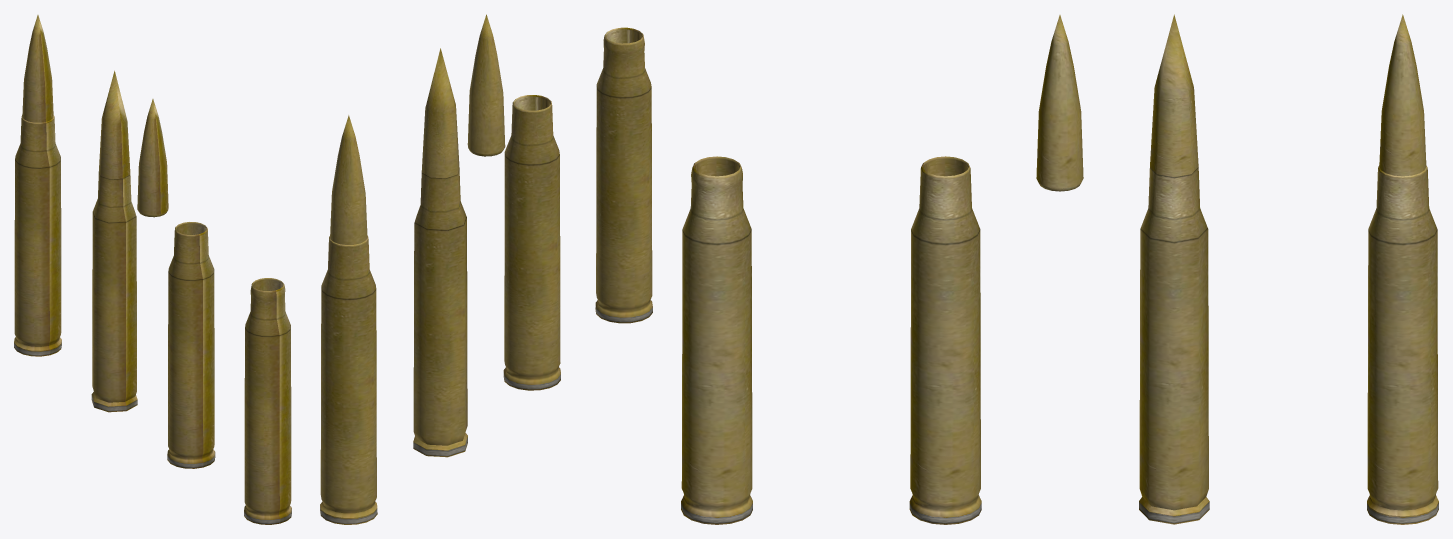
Rendered from Casing.glb.
3 views of the same model, side by side, from view 1: azimuth 30°, elevation 25°; view 2: azimuth 150°, elevation 25°; view 3: azimuth 270°, elevation 25° (orthographic). The views are drawn at different scales.
Visible parts, largest first — view 1: Object_2; view 2: Object_2; view 3: Object_2.
Boxes of the visible parts, box(x1,y1,x2,y2) form: Object_2: box(14, 15, 291, 524); Object_2: box(320, 14, 652, 524); Object_2: box(681, 14, 1438, 524).
Bounding box in the file's own units: 0.3152 × 2.4 × 3.32.
1 material, 1 textured.
